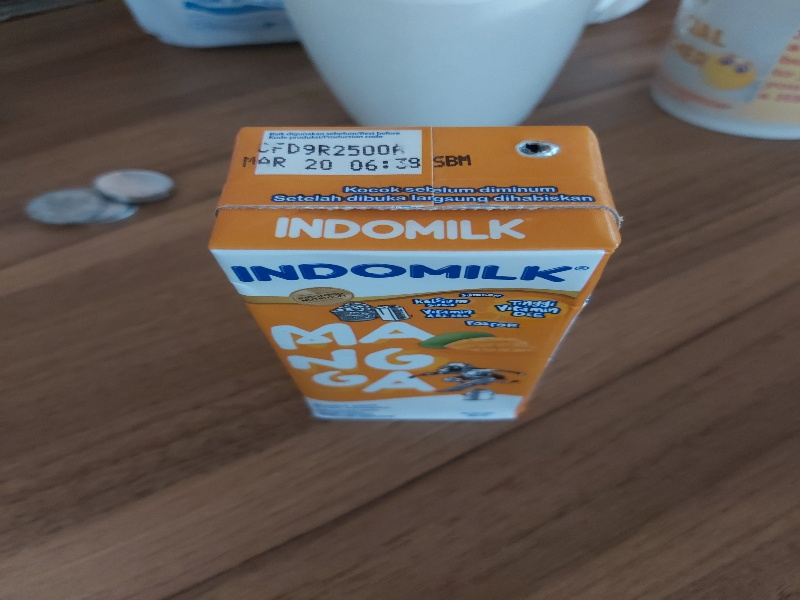mangga: (209, 126, 627, 427)
